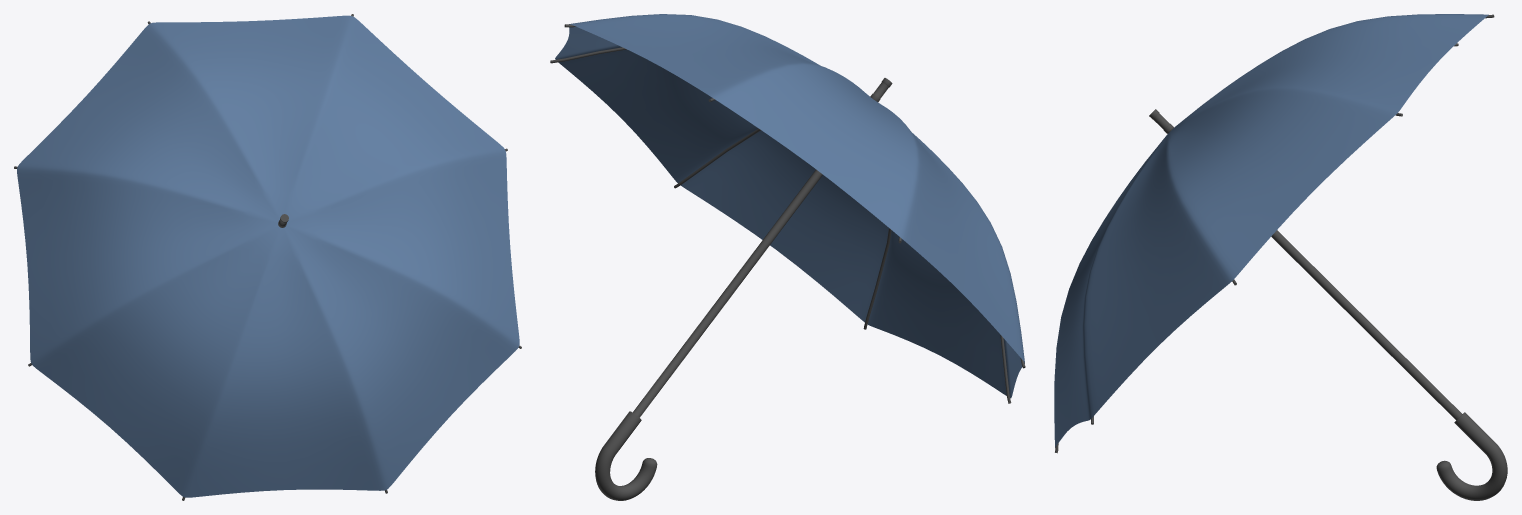
File: Umbrella.fbx
The picture shows the model from 3 angles, left to right: view 1: azimuth 30°, elevation 25°; view 2: azimuth 150°, elevation 25°; view 3: azimuth 270°, elevation 25°; orthographic projection. The views are drawn at different scales.
Visible parts, largest first — view 1: Object_2; view 2: Object_2; view 3: Object_2.
Part boxes in pixels (left/top/right/bottom): Object_2: left=14, top=14, right=521, bottom=500; Object_2: left=550, top=14, right=1025, bottom=500; Object_2: left=1054, top=14, right=1507, bottom=500.
Bounding box in the file's own units: 118 × 94.54 × 88.54.
